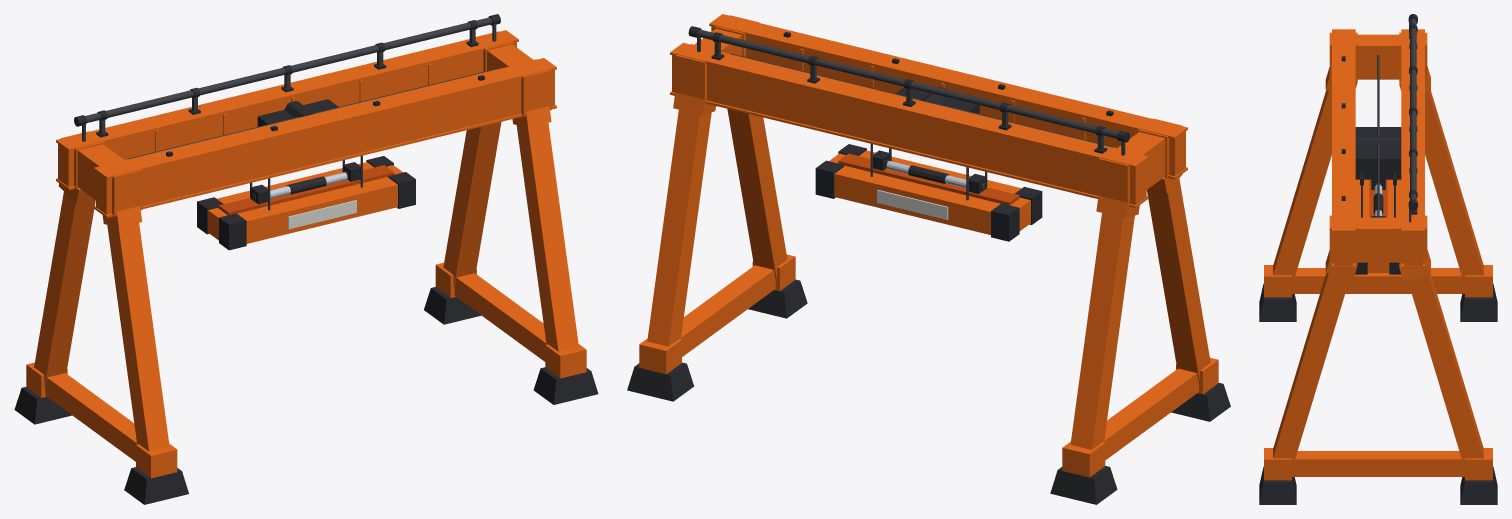
Rendered from mills q5 container crane.fbx.
The picture shows the model from 3 angles, left to right: view 1: azimuth 30°, elevation 25°; view 2: azimuth 150°, elevation 25°; view 3: azimuth 270°, elevation 25°; orthographic projection. The views are drawn at different scales.
Visible parts, largest first — view 1: Twistlock_Block_1_-1; view 2: Twistlock_Block_1_-1; view 3: Twistlock_Block_1_-1.
Part boxes in pixels (box(x1,y1,x2,y2)): Twistlock_Block_1_-1: box(14, 14, 598, 504); Twistlock_Block_1_-1: box(627, 14, 1230, 504); Twistlock_Block_1_-1: box(1259, 14, 1497, 504).
Size of the model in its own units: 932 by 632 by 462.
